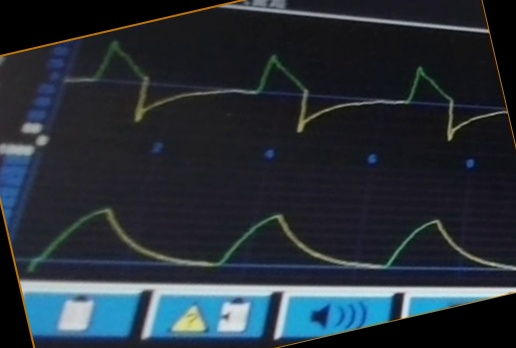Normal Flow: (66, 40, 506, 141)
Normal Volume: (24, 199, 516, 278)
